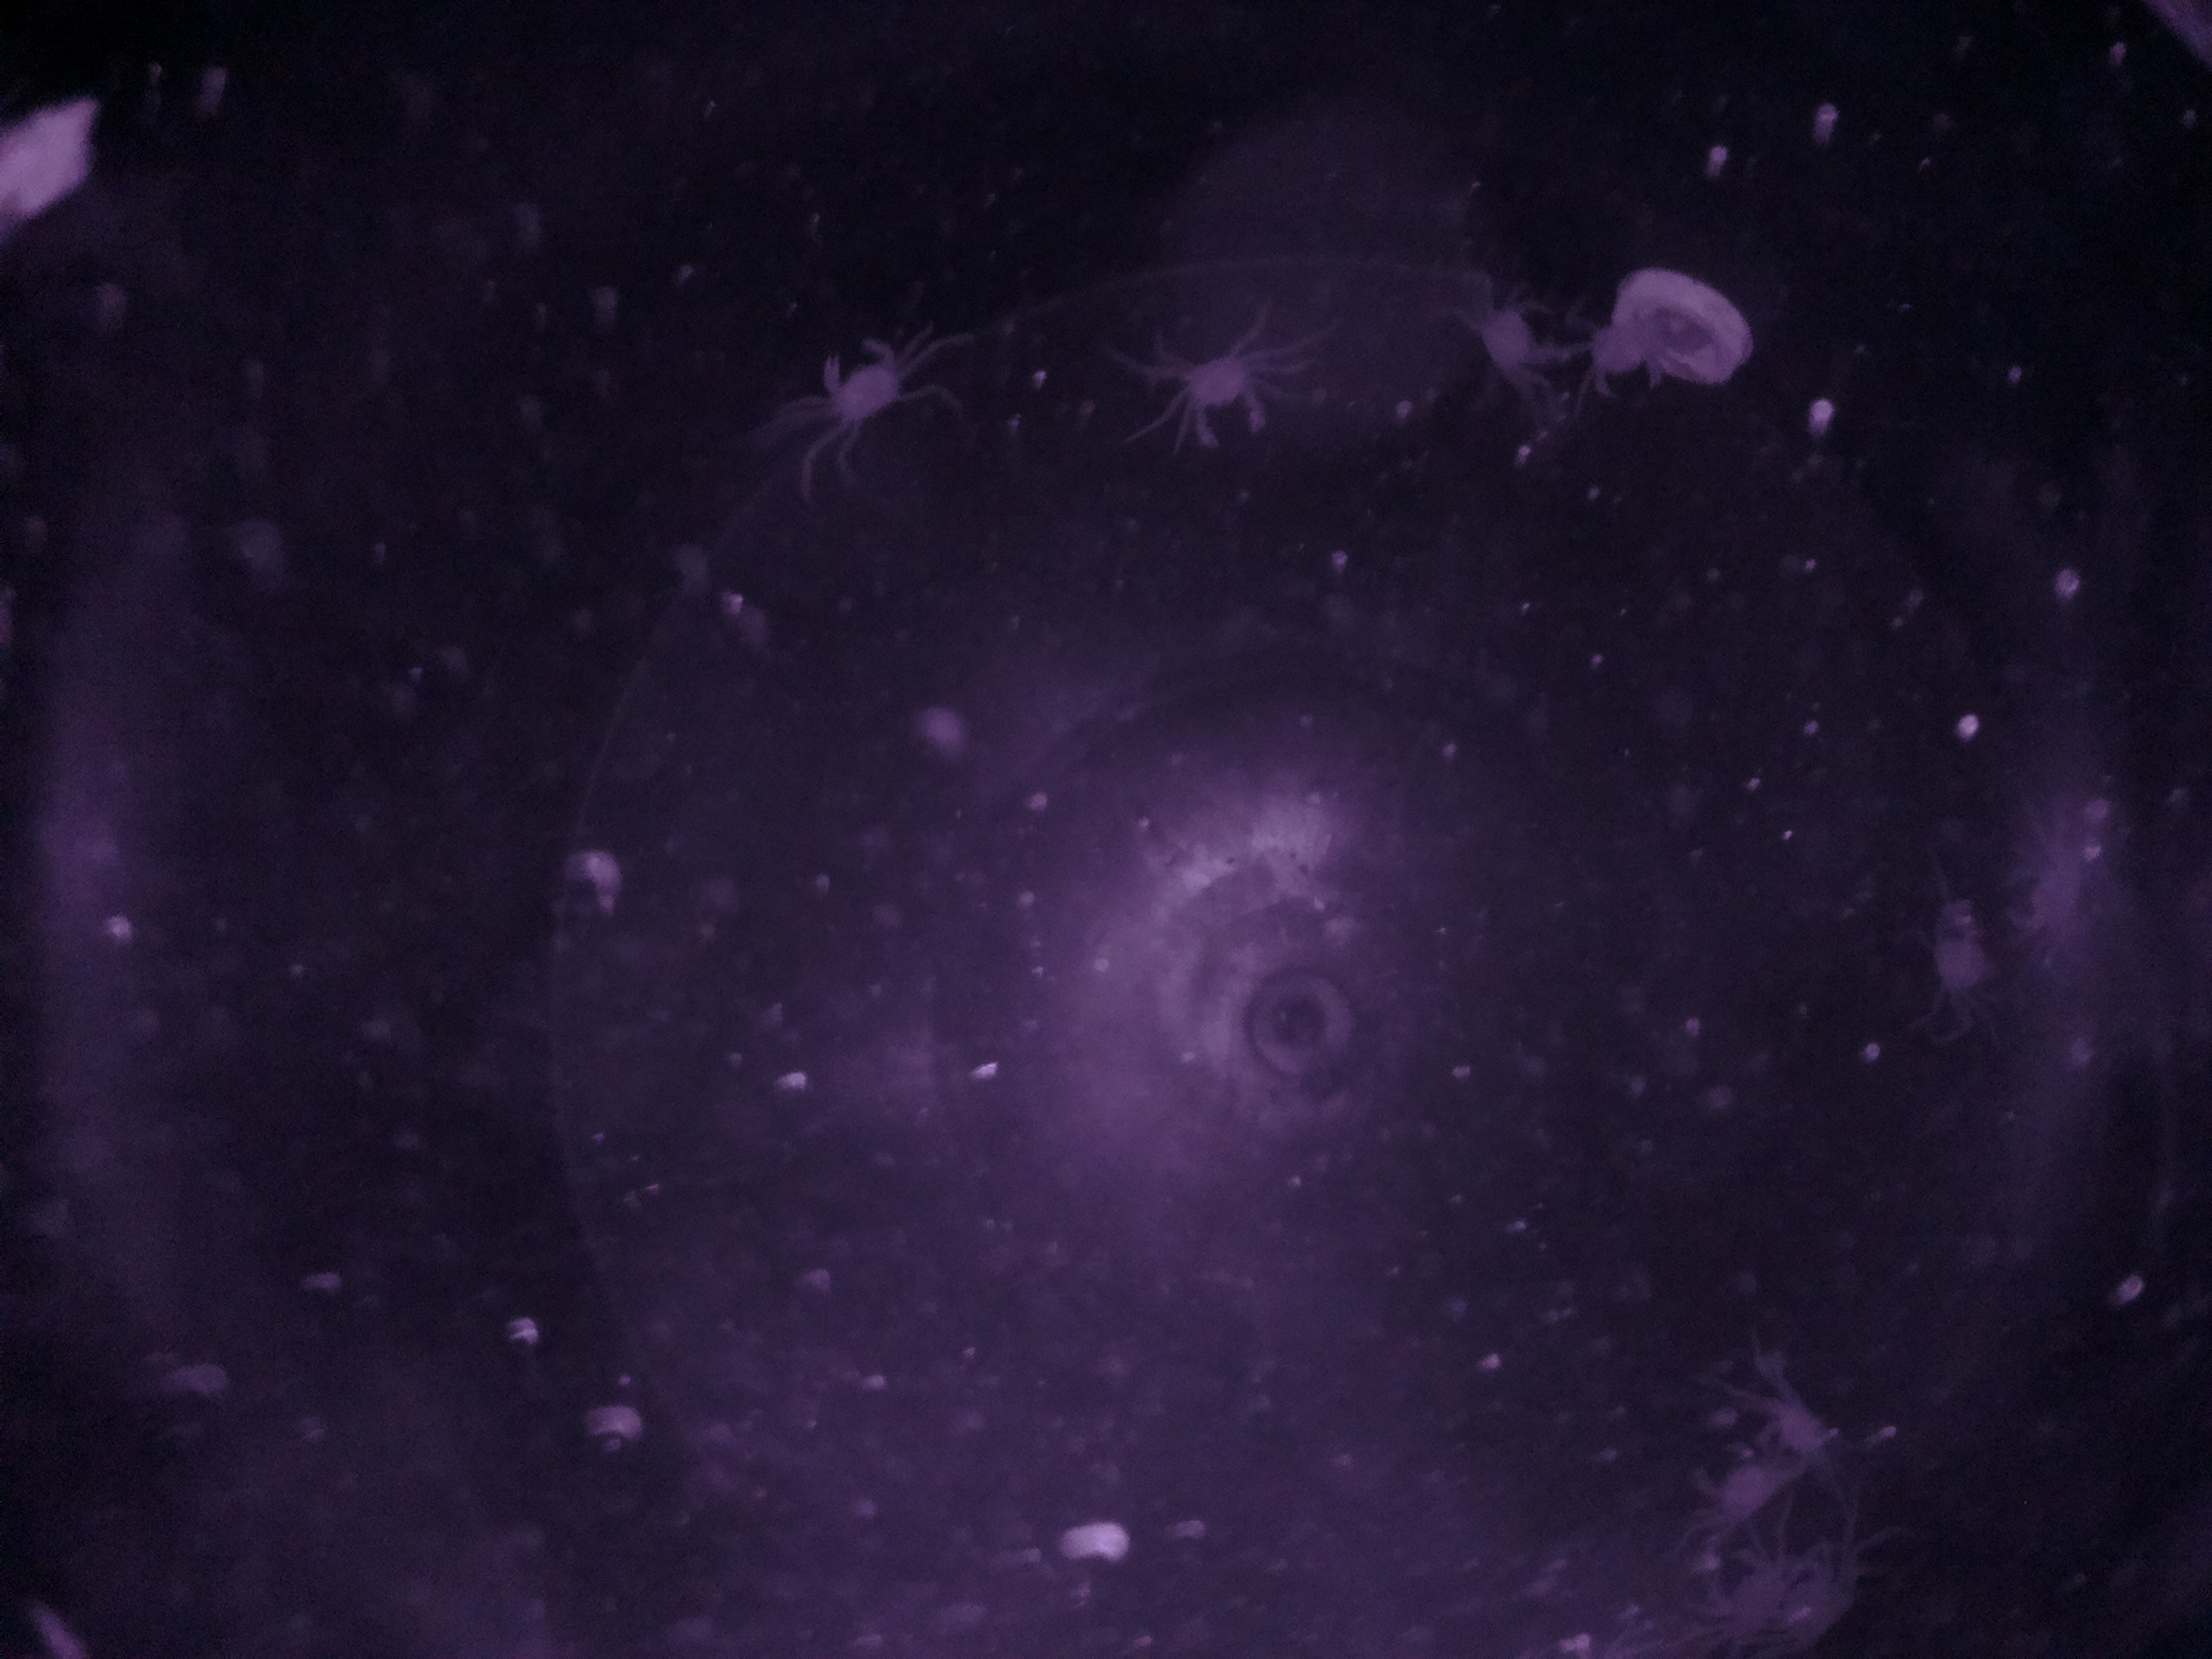Crab: (1158, 321, 1282, 458), (799, 312, 928, 443)
